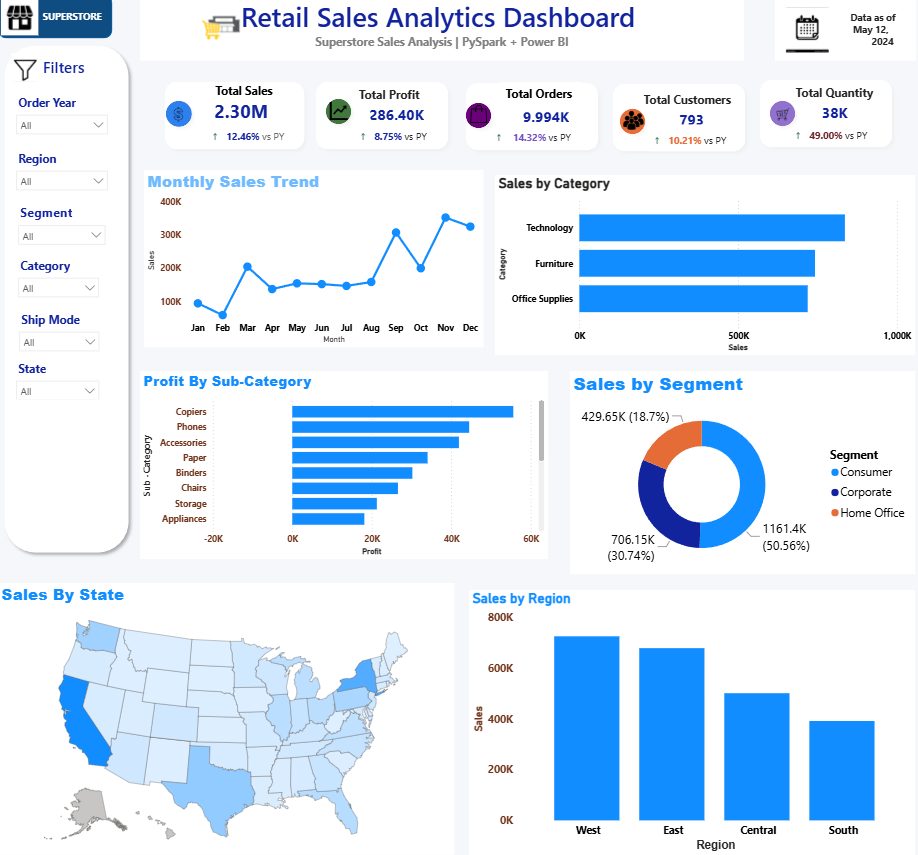

The page's visual inventory and layout, read from the dashboard file:
{"tool":"powerbi","page":{"name":"Page 2","canvas":[1280,1193],"ordinal":0},"visuals":[{"type":"shape","box":[0,61,190,721.3],"z":0},{"type":"shape","box":[0,0,158.5,60.3],"z":1000},{"type":"actionButton","box":[0,0,79.8,60.3],"z":2000},{"type":"textbox","box":[57.4,14.6,281.1,92.4],"z":3000},{"type":"slicer","fields":{"Values":["Sample - Superstore.Region"]},"box":[15.5,211.3,146.6,64.7],"z":4000},{"type":"slicer","fields":{"Values":["Sample - Superstore.Segment"]},"box":[18.1,284.6,140.6,68.1],"z":5000},{"type":"slicer","fields":{"Values":["Sample - Superstore.Category"]},"box":[18.1,359.7,132,67.3],"z":6000},{"type":"slicer","fields":{"Values":["Sample - Superstore.Ship Mode"]},"box":[19,434.7,131.1,68.1],"z":7000},{"type":"slicer","fields":{"Values":["Sample - Superstore.State"]},"box":[15.5,502.9,134.6,58.7],"z":8000},{"type":"textbox","box":[18.1,81.1,140.6,46.6],"z":9000},{"type":"actionButton","box":[18.1,84.5,44,39.7],"z":10000},{"type":"slicer","fields":{"Values":["Sample - Superstore.Order Date.Variation.Date Hierarchy.Year"]},"box":[15.5,133.7,146.6,77.6],"z":11000},{"type":"textbox","box":[197.5,0,837.5,91.4],"z":12000},{"type":"actionButton","box":[263.9,0,119.9,91.4],"z":13000},{"type":"textbox","box":[1077.2,0,195.6,91],"z":14000},{"type":"actionButton","box":[1088,14.4,73,70.3],"z":15000},{"type":"shape","box":[222.6,112.7,210,110],"z":16000},{"type":"shape","box":[224.5,138.8,52.3,52.3],"z":17000},{"type":"image","box":[237.1,153.2,26.1,26.1],"z":18000},{"type":"cardVisual","fields":{"Data":["Sum(Sample - Superstore.Sales)"]},"box":[283,128.9,135.2,59.5],"z":19000},{"type":"textbox","box":[283,116.3,126.2,41.5],"z":20000},{"type":"textbox","box":[292.8,163,125.2,54.9],"z":21000},{"type":"shape","box":[432.4,112.6,200,109.9],"z":22000},{"type":"shape","box":[446.8,136,51.3,51.3],"z":23000},{"type":"image","box":[459.4,148.6,27,25.2],"z":24000},{"type":"cardVisual","fields":{"Data":["Sum(Sample - Superstore.Profit)"]},"box":[498.1,131.5,118,63.1],"z":25000},{"type":"textbox","box":[490.9,121.6,124.3,31.5],"z":26000},{"type":"textbox","box":[498.1,180.2,109.9,34.2],"z":27000},{"type":"shape","box":[640.5,114.4,200,109.9],"z":28000},{"type":"shape","box":[844.9,115.3,200,109.9],"z":29000},{"type":"shape","box":[1049.4,109.9,200,110],"z":30000},{"type":"shape","box":[640.5,141.4,51.3,51.3],"z":31000},{"type":"image","box":[653.1,153.1,27,25.2],"z":32000},{"type":"cardVisual","fields":{"Data":["CountNonNull(Sample - Superstore.Order ID)"]},"box":[698.6,145.1,129.8,65.8],"z":33000},{"type":"textbox","box":[699,120.7,109.9,32.4],"z":34000},{"type":"textbox","box":[681.9,182,127,34.2],"z":35000},{"type":"shape","box":[854.8,149.5,51.3,51.3],"z":36000},{"type":"image","box":[861.1,161.2,39.6,26.1],"z":37000},{"type":"cardVisual","fields":{"Data":["Count(Sample - Superstore.Customer ID)"]},"box":[928.7,143.2,71.2,54],"z":38000},{"type":"textbox","box":[890.9,128.8,132.4,34.2],"z":39000},{"type":"textbox","box":[906.2,185.6,117.1,30.6],"z":40000},{"type":"shape","box":[1062,138.7,51.3,51.3],"z":41000},{"type":"image","box":[1066.5,145,42.3,40.5],"z":42000},{"type":"cardVisual","fields":{"Data":["Sum(Sample - Superstore.Quantity)","select"]},"box":[1113.4,129.7,100,60.4],"z":43000},{"type":"textbox","box":[1101.6,119.8,139.6,34.2],"z":44000},{"type":"textbox","box":[1101.6,178.4,159.4,37.8],"z":45000},{"type":"lineChart","title":"Monthly Sales Trend","fields":{"Category":["Sample - Superstore.Month"],"Y":["Sum(Sample - Superstore.Sales)"]},"box":[201.9,243.4,471.4,246.1],"z":45001},{"type":"clusteredBarChart","fields":{"Category":["Sample - Superstore.Category"],"Y":["Sum(Sample - Superstore.Sales)"]},"box":[689.5,250,582.6,250],"z":45002},{"type":"clusteredBarChart","title":"Profit By  Sub-Category","fields":{"Y":["Sum(Sample - Superstore.Profit)"],"Category":["Sample - Superstore.Sub-Category"]},"box":[197,521.6,566,260.8],"z":45003},{"type":"donutChart","title":"Sales by Segment","fields":{"Category":["Sample - Superstore.Segment"],"Y":["Sum(Sample - Superstore.Sales)"]},"box":[793.5,521.6,478.6,281.6],"z":45004},{"type":"shapeMap","title":"Sales By State","fields":{"Category":["Sample - Superstore.State"],"Value":["Sum(Sample - Superstore.Sales)"]},"box":[0,815.7,632.6,377.3],"z":45005},{"type":"clusteredColumnChart","fields":{"Category":["Sample - Superstore.Region"],"Y":["Sum(Sample - Superstore.Sales)"]},"box":[653.4,825.4,618.7,367.6],"z":45006}]}

Visuals, with their boxes in screenshot pixels (x1, y1, x2, y2), scaled from the page's 1280x1193 canvas onto the 918x855 screenshot:
shape: left=0, top=44, right=136, bottom=561
shape: left=0, top=0, right=114, bottom=43
actionButton: left=0, top=0, right=57, bottom=43
textbox: left=41, top=10, right=243, bottom=77
slicer - Sample - Superstore.Region: left=11, top=151, right=116, bottom=198
slicer - Sample - Superstore.Segment: left=13, top=204, right=114, bottom=253
slicer - Sample - Superstore.Category: left=13, top=258, right=108, bottom=306
slicer - Sample - Superstore.Ship Mode: left=14, top=312, right=108, bottom=360
slicer - Sample - Superstore.State: left=11, top=360, right=108, bottom=402
textbox: left=13, top=58, right=114, bottom=92
actionButton: left=13, top=61, right=45, bottom=89
slicer - Sample - Superstore.Order Date.Variation.Date Hierarchy.Year: left=11, top=96, right=116, bottom=151
textbox: left=142, top=0, right=742, bottom=66
actionButton: left=189, top=0, right=275, bottom=66
textbox: left=773, top=0, right=913, bottom=65
actionButton: left=780, top=10, right=833, bottom=61
shape: left=160, top=81, right=310, bottom=160
shape: left=161, top=99, right=199, bottom=137
image: left=170, top=110, right=189, bottom=129
cardVisual - Sum(Sample - Superstore.Sales): left=203, top=92, right=300, bottom=135
textbox: left=203, top=83, right=293, bottom=113
textbox: left=210, top=117, right=300, bottom=156
shape: left=310, top=81, right=454, bottom=159
shape: left=320, top=97, right=357, bottom=134
image: left=329, top=106, right=349, bottom=125
cardVisual - Sum(Sample - Superstore.Profit): left=357, top=94, right=442, bottom=139
textbox: left=352, top=87, right=441, bottom=110
textbox: left=357, top=129, right=436, bottom=154
shape: left=459, top=82, right=603, bottom=161
shape: left=606, top=83, right=749, bottom=161
shape: left=753, top=79, right=896, bottom=158
shape: left=459, top=101, right=496, bottom=138
image: left=468, top=110, right=488, bottom=128
cardVisual - CountNonNull(Sample - Superstore.Order ID): left=501, top=104, right=594, bottom=151
textbox: left=501, top=87, right=580, bottom=110
textbox: left=489, top=130, right=580, bottom=155
shape: left=613, top=107, right=650, bottom=144
image: left=618, top=116, right=646, bottom=134
cardVisual - Count(Sample - Superstore.Customer ID): left=666, top=103, right=717, bottom=141
textbox: left=639, top=92, right=734, bottom=117
textbox: left=650, top=133, right=734, bottom=155
shape: left=762, top=99, right=798, bottom=136
image: left=765, top=104, right=795, bottom=133
cardVisual - Sum(Sample - Superstore.Quantity) x select: left=799, top=93, right=870, bottom=136
textbox: left=790, top=86, right=890, bottom=110
textbox: left=790, top=128, right=904, bottom=155
"Monthly Sales Trend" lineChart: left=145, top=174, right=483, bottom=351
clusteredBarChart - Sample - Superstore.Category x Sum(Sample - Superstore.Sales): left=495, top=179, right=912, bottom=358
"Profit By  Sub-Category" clusteredBarChart: left=141, top=374, right=547, bottom=561
"Sales by Segment" donutChart: left=569, top=374, right=912, bottom=576
"Sales By State" shapeMap: left=0, top=585, right=454, bottom=854
clusteredColumnChart - Sample - Superstore.Region x Sum(Sample - Superstore.Sales): left=469, top=592, right=912, bottom=854
